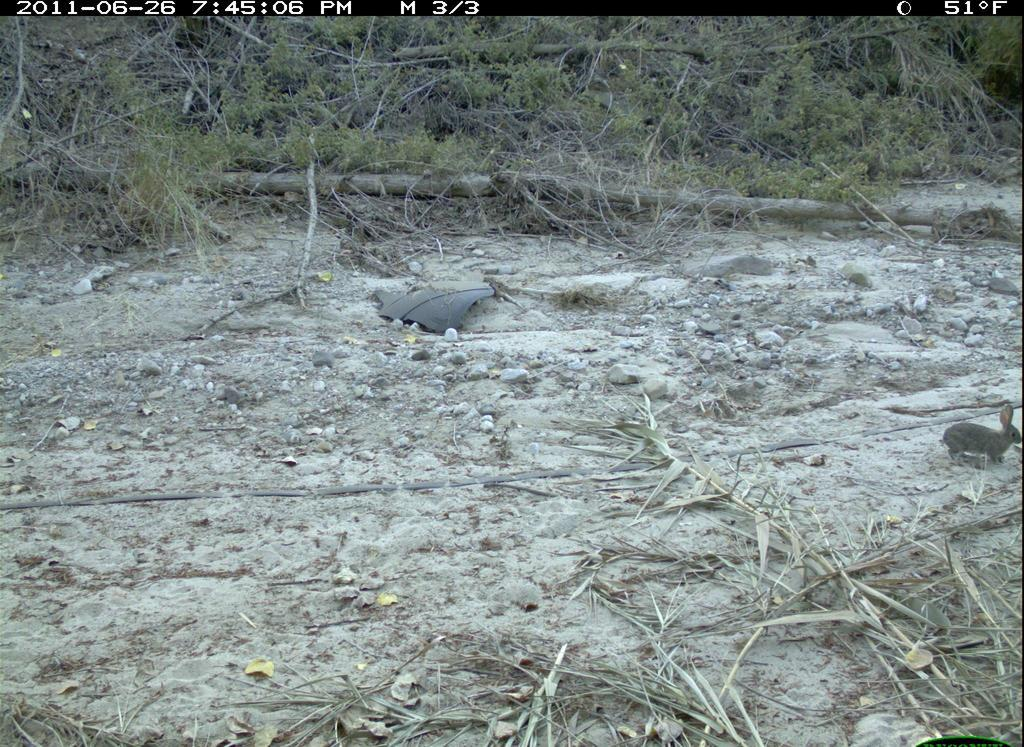rabbit: (941, 393, 1023, 486)
